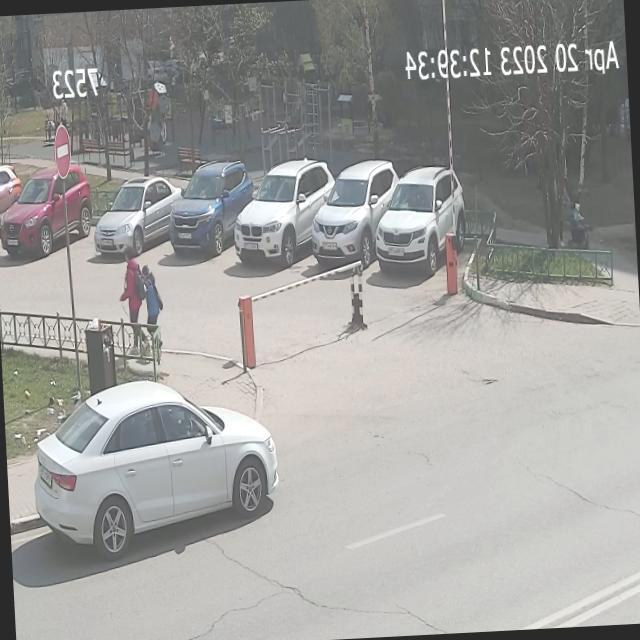person: (116, 246, 145, 354), (142, 264, 165, 348)
